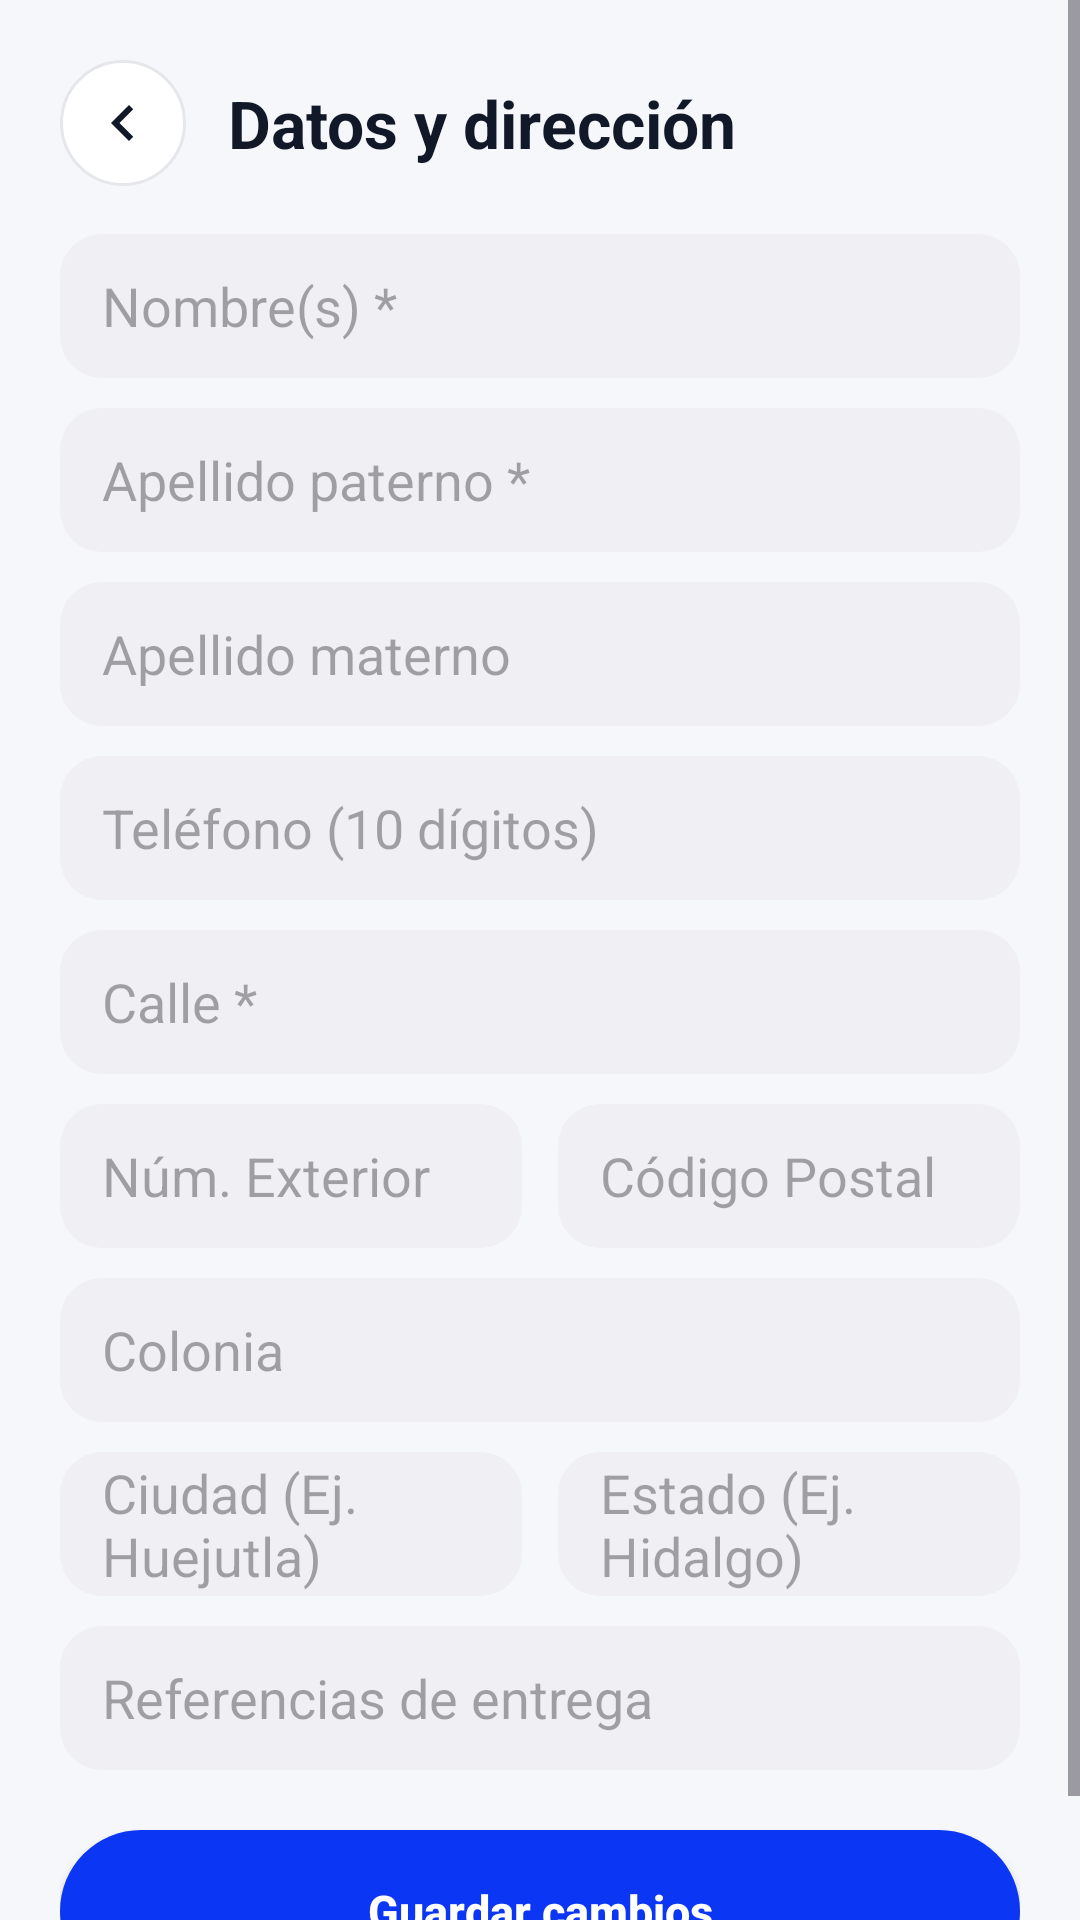

Icon click points for this 1080px x 1920px phone screenshot, format [x,y]:
Regresar: [123,123]
